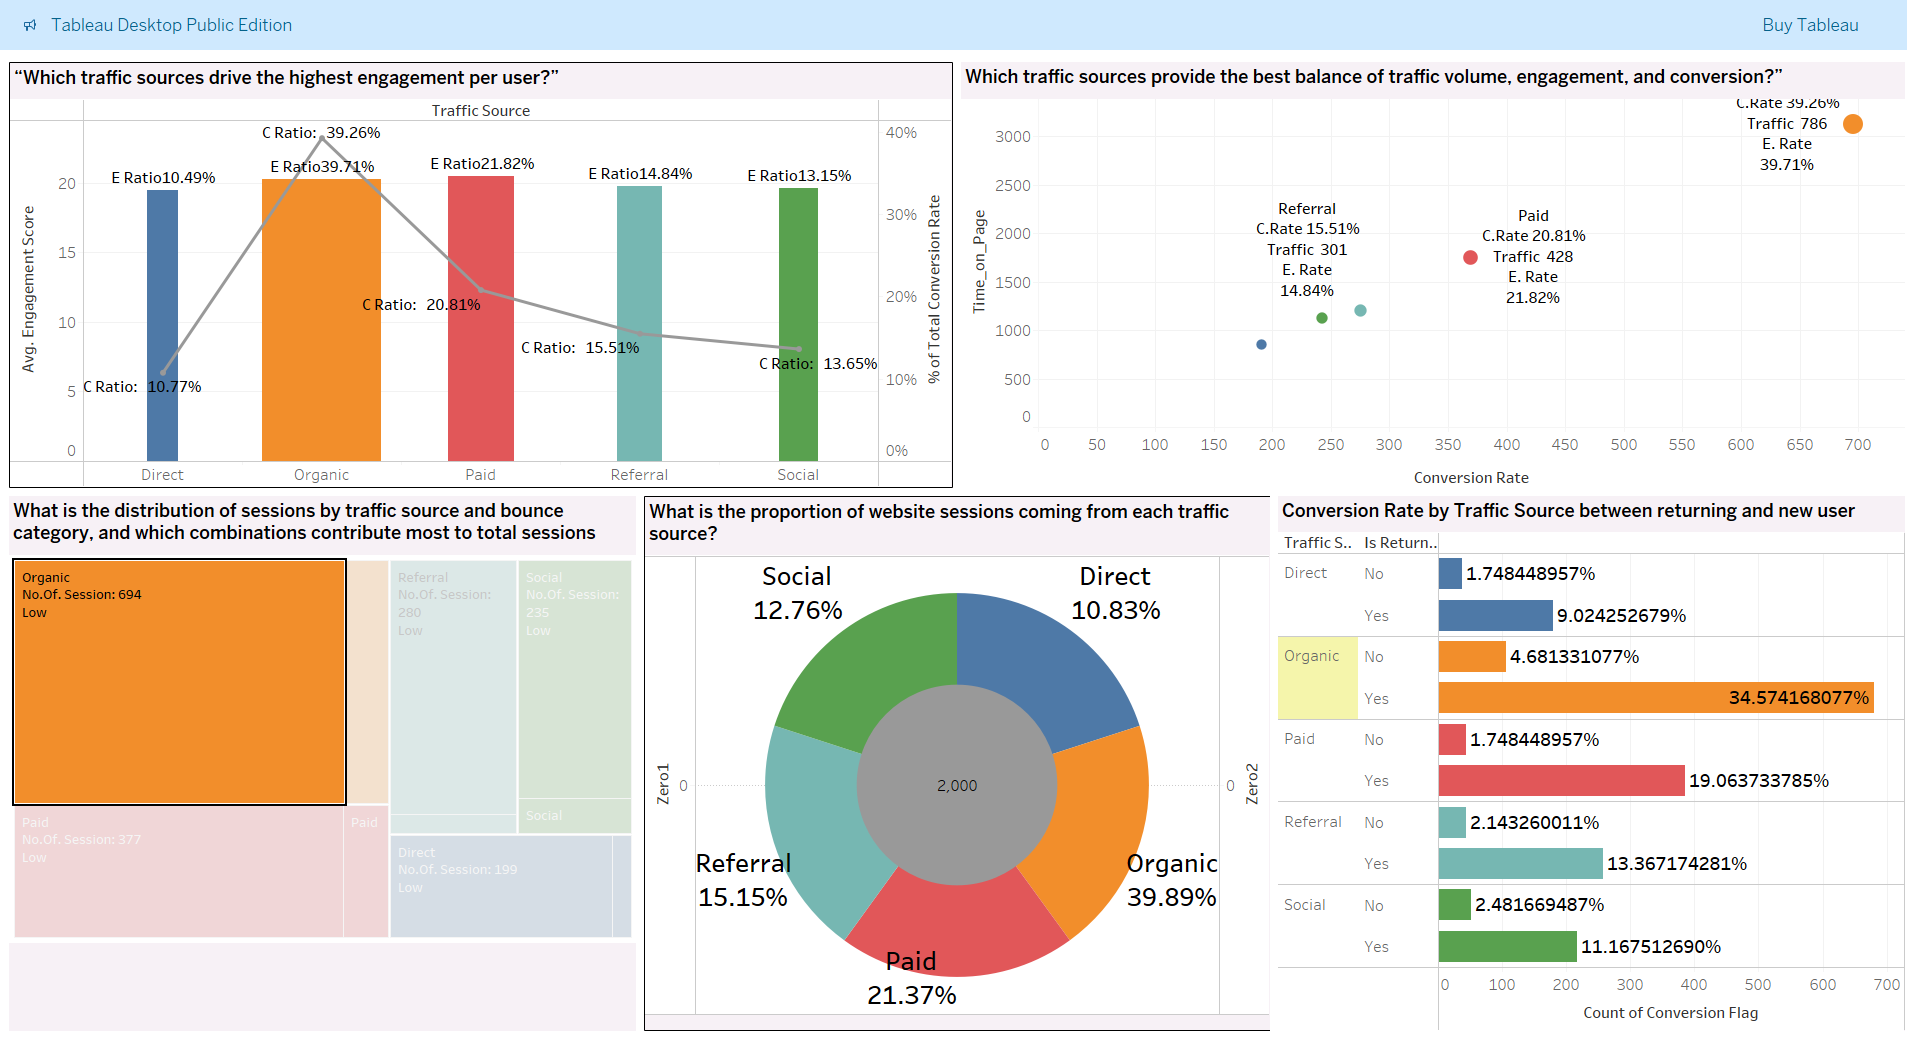

Layout of this report page (visuals, bound fields, positions):
{"tool":"tableau","page":{"name":"Dashboard 1","canvas":[1000,1000],"units":"permille","ordinal":0},"visuals":[{"type":"worksheet","title":"Bar-Line combo Chart","mark":"Automatic","rows":["Calculation_1595400186608414722","Conversion_Rate"],"cols":["Traffic_Source"],"box":[4.8,10,495.1,434.4]},{"type":"worksheet","title":"Scatter Plot","mark":"Circle","rows":["Time_on_Page"],"cols":["Conversion_Rate"],"box":[500,10,495.2,434.4]},{"type":"worksheet","title":"Treemap","mark":"Automatic","box":[4.8,444.4,330,545.6]},{"type":"worksheet","title":"Donut Chart","mark":"Pie","rows":["Calculation_1595400186630787081","Calculation_1595400186630873098"],"box":[334.9,444.4,330.1,545.6]},{"type":"worksheet","title":"Horizontal Bar","mark":"Automatic","rows":["Traffic_Source","Calculation_1595400186608570371"],"cols":["Calculation_1595400186609156102"],"box":[665,444.4,330.2,545.6]}]}

Visuals, with their boxes on the dashboard's canvas, which has no fixed pixel size, in thousandths of its width and height (x1, y1, x2, y2). These are canvas units, not pixel positions in the 1907x1040 screenshot, which may show the page scaled, cropped or inside an application window:
"Bar-Line combo Chart" worksheet: {"x1": 5, "y1": 10, "x2": 500, "y2": 444}
"Scatter Plot" worksheet (Circle marks): {"x1": 500, "y1": 10, "x2": 995, "y2": 444}
"Treemap" worksheet: {"x1": 5, "y1": 444, "x2": 335, "y2": 990}
"Donut Chart" worksheet (Pie marks): {"x1": 335, "y1": 444, "x2": 665, "y2": 990}
"Horizontal Bar" worksheet: {"x1": 665, "y1": 444, "x2": 995, "y2": 990}
